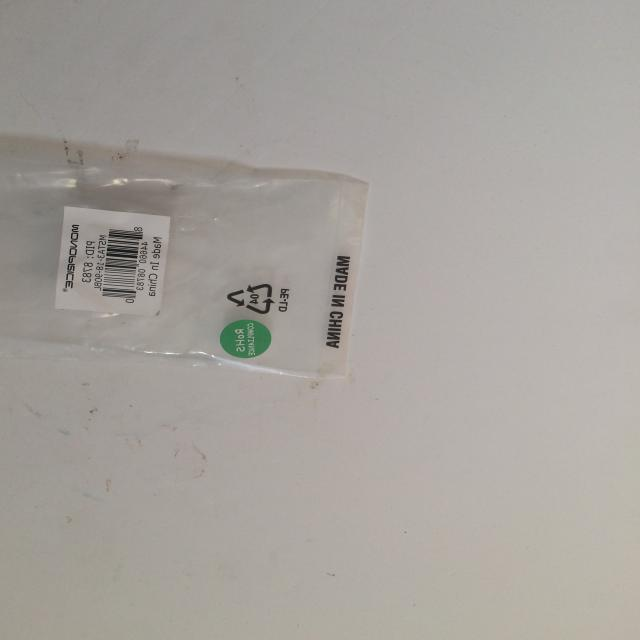plastic: (0, 138, 371, 380)
